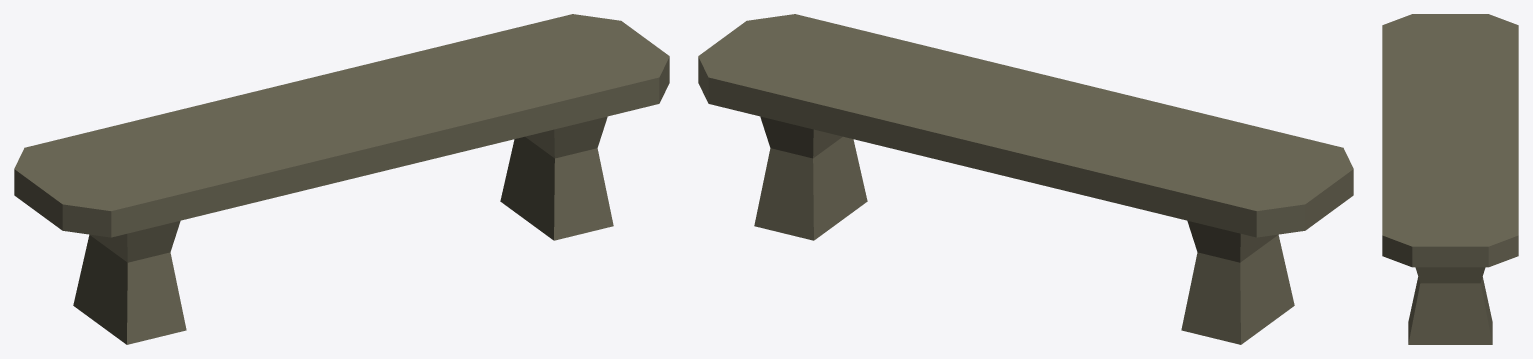
Rendered from bench.fbx.
The picture shows the model from 3 angles, left to right: view 1: azimuth 30°, elevation 25°; view 2: azimuth 150°, elevation 25°; view 3: azimuth 270°, elevation 25°; orthographic projection. The views are drawn at different scales.
Parts seen in each view (by area): view 1: Cube, Cube.001, Cube.002; view 2: Cube, Cube.001, Cube.002; view 3: Cube, Cube.002.
Boxes of the visible parts, left/top/right/bottom form: Cube: left=14, top=14, right=669, bottom=237; Cube.001: left=73, top=220, right=186, bottom=344; Cube.002: left=500, top=116, right=613, bottom=240; Cube: left=698, top=14, right=1353, bottom=237; Cube.001: left=1181, top=220, right=1294, bottom=344; Cube.002: left=754, top=116, right=867, bottom=240; Cube: left=1382, top=14, right=1518, bottom=267; Cube.002: left=1408, top=267, right=1492, bottom=344.
Size of the model in its own units: 991 by 240 by 245.
